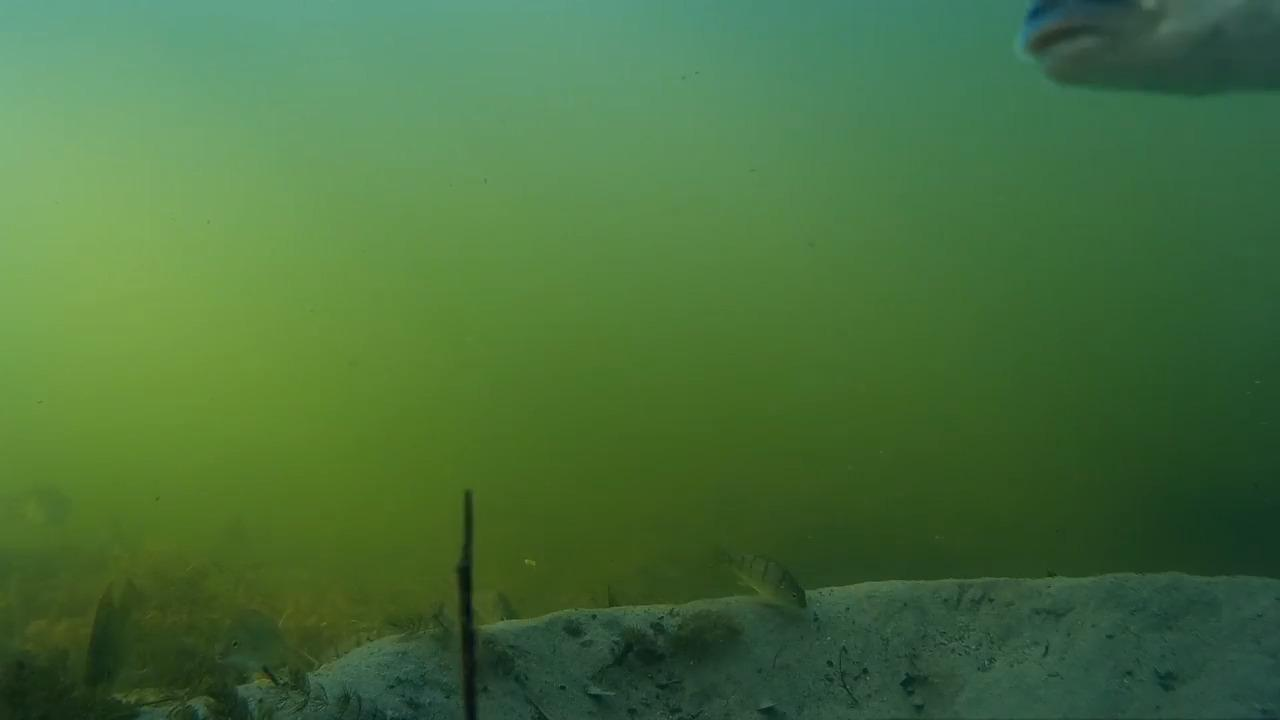Tilapia: (714, 532, 825, 634), (69, 566, 161, 686), (205, 600, 317, 686)
